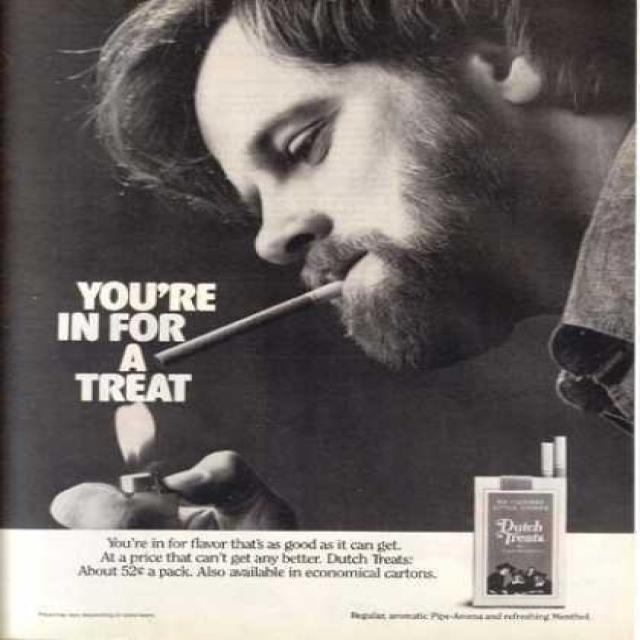Smooking: (130, 288, 368, 378)
